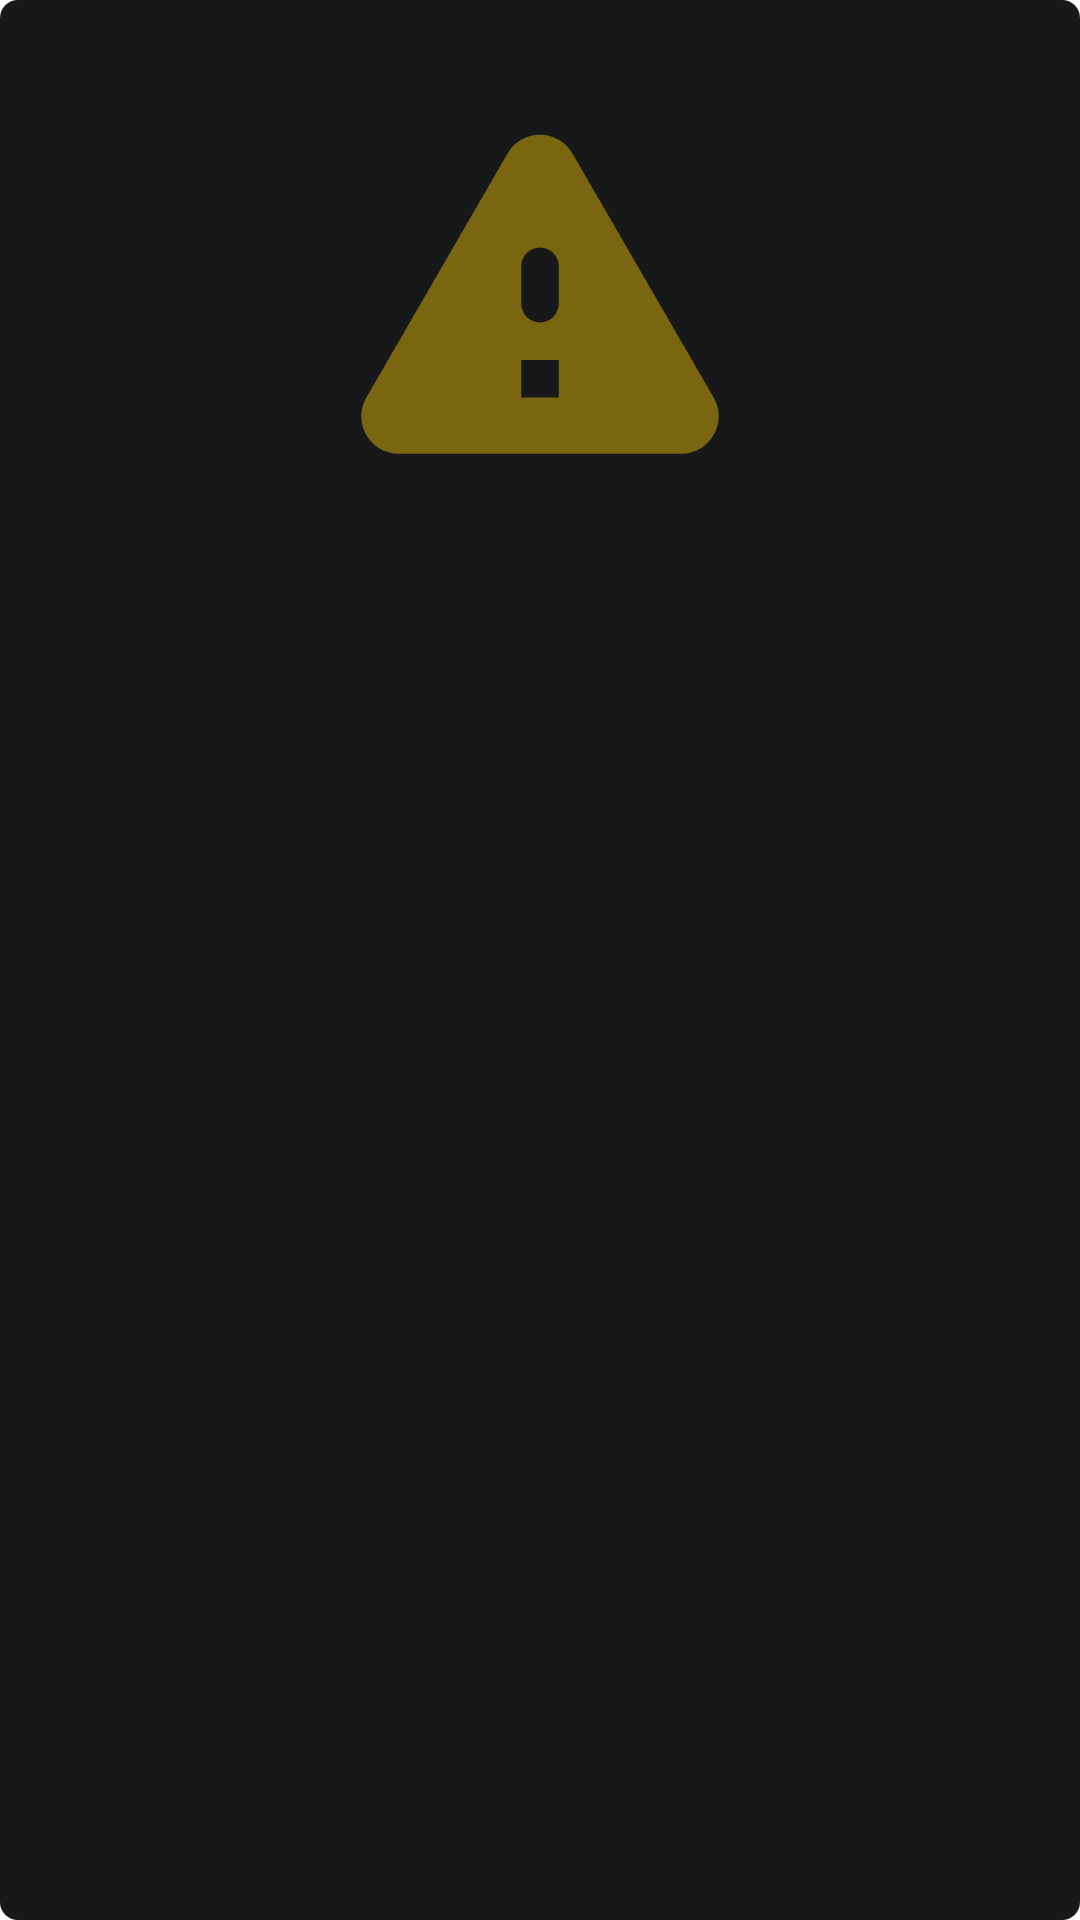

Icon bounding boxes for this 1080×1920 phone screenshot, format (x1, y1, x2, y2):
warning: (361, 135, 719, 454)
